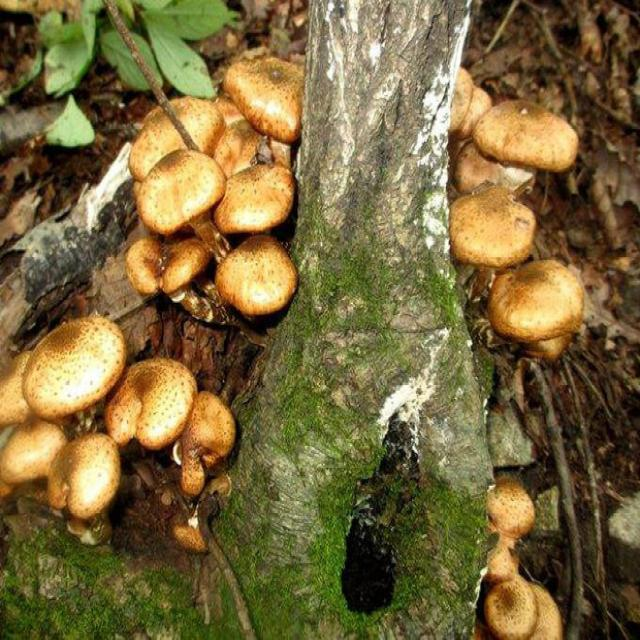Armillaria mellea: (0, 318, 234, 522), (116, 53, 301, 311), (443, 70, 585, 354), (479, 472, 567, 639)
